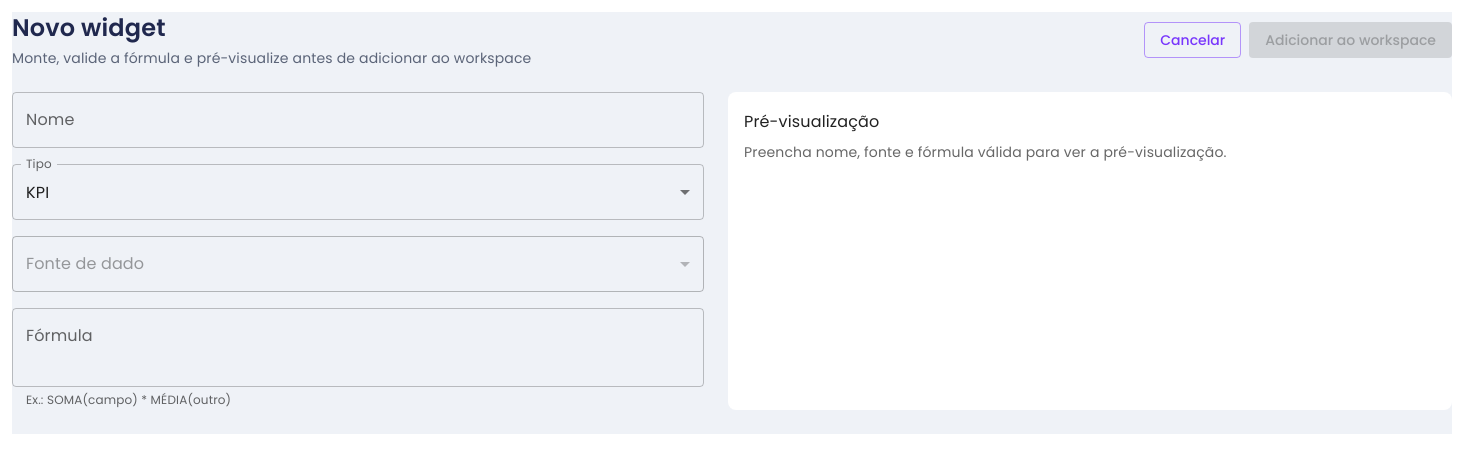
WidgetBuilderPage › shows preview with formatted KPI when formula is valid (WKS2-19)
Expected: the text box labelled "Fórmula" is shown, [26, 324, 690, 370]
Type "KPI Vendas" into the field labelled "Nome".
click(358, 120); type("KPI Vendas")  # box [12, 92, 704, 148]
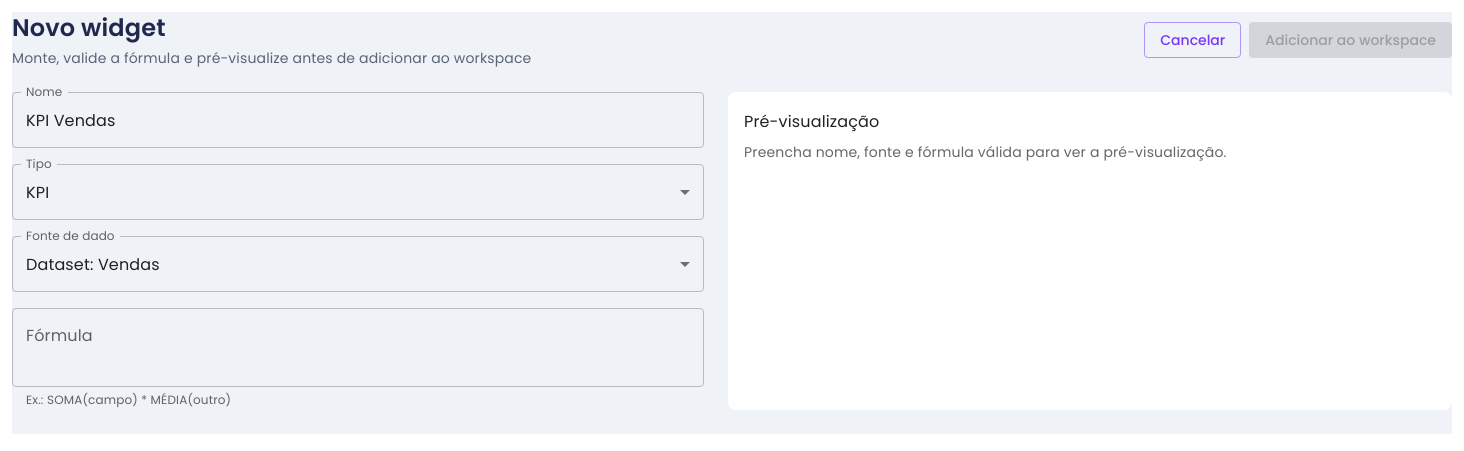
Type "SOMA(valor)" into the text box labelled "Fórmula".
click(358, 348); type("SOMA(valor)")  # box [26, 324, 690, 370]
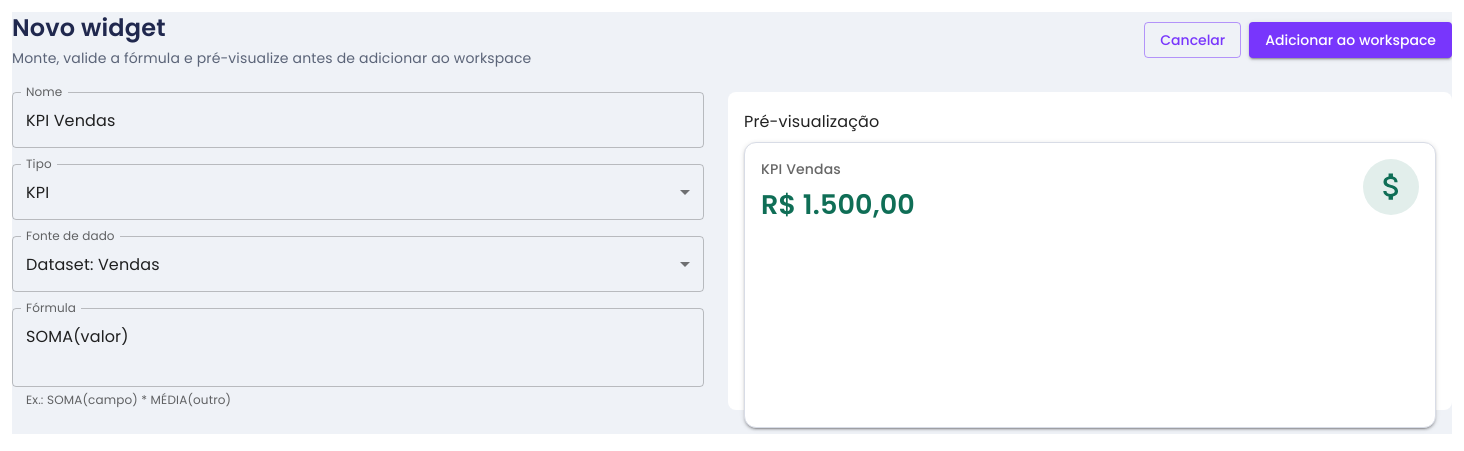
Expected: the heading "KPI Vendas" is shown, [761, 159, 841, 179]
